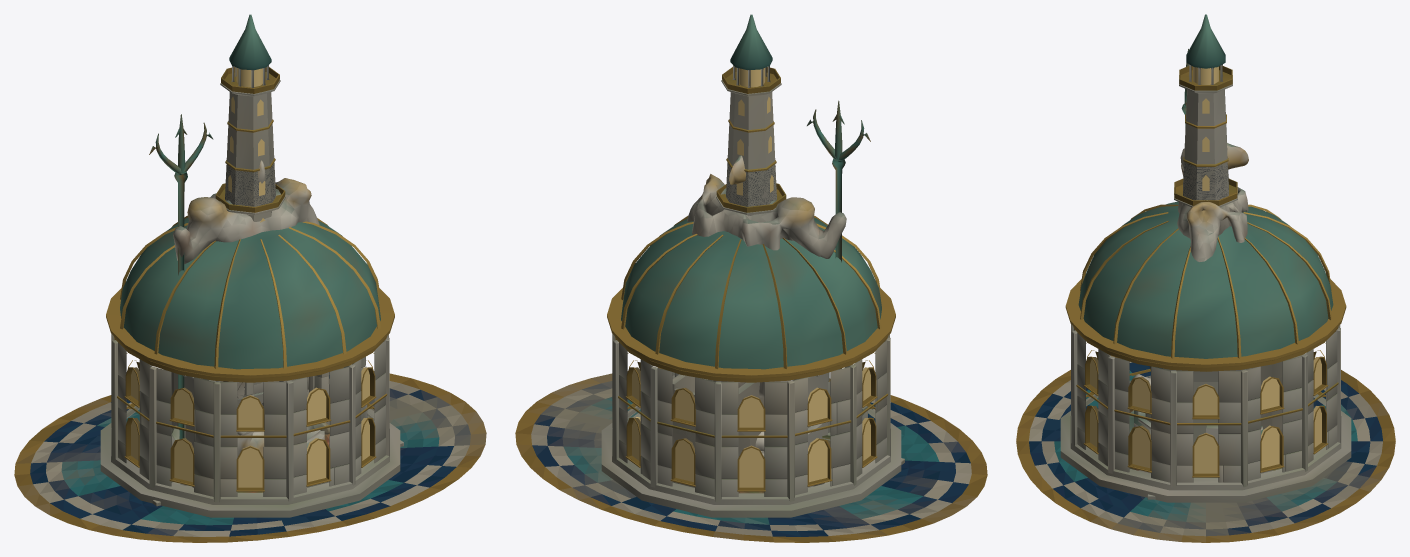
File: props_cities.glb
3 views of the same model, side by side, from view 1: azimuth 30°, elevation 25°; view 2: azimuth 150°, elevation 25°; view 3: azimuth 270°, elevation 25° (orthographic). The views are drawn at different scales.
Parts seen in each view (by area): view 1: dome_hall, arena_floor, tower, statue_colossus, temple_front, statue_torso; view 2: dome_hall, arena_floor, tower, statue_colossus, stair_steep; view 3: dome_hall, arena_floor, tower, statue_colossus, stair_steep, tower_cold.
Boxes of the visible parts, x1,y1,x2,y2 form: dome_hall: [100, 215, 400, 517]; arena_floor: [14, 367, 486, 542]; tower: [215, 14, 285, 406]; statue_colossus: [149, 114, 324, 447]; temple_front: [152, 356, 403, 506]; statue_torso: [237, 422, 329, 456]; dome_hall: [601, 215, 901, 517]; arena_floor: [515, 367, 987, 542]; tower: [716, 14, 786, 216]; statue_colossus: [687, 100, 870, 456]; stair_steep: [672, 374, 764, 487]; dome_hall: [1060, 201, 1351, 502]; arena_floor: [1016, 355, 1395, 542]; tower: [1174, 14, 1237, 207]; statue_colossus: [1129, 49, 1263, 434]; stair_steep: [1251, 353, 1305, 432]; tower_cold: [1183, 67, 1227, 200].
Bounding box in the file's own units: 66 × 71 × 52.
